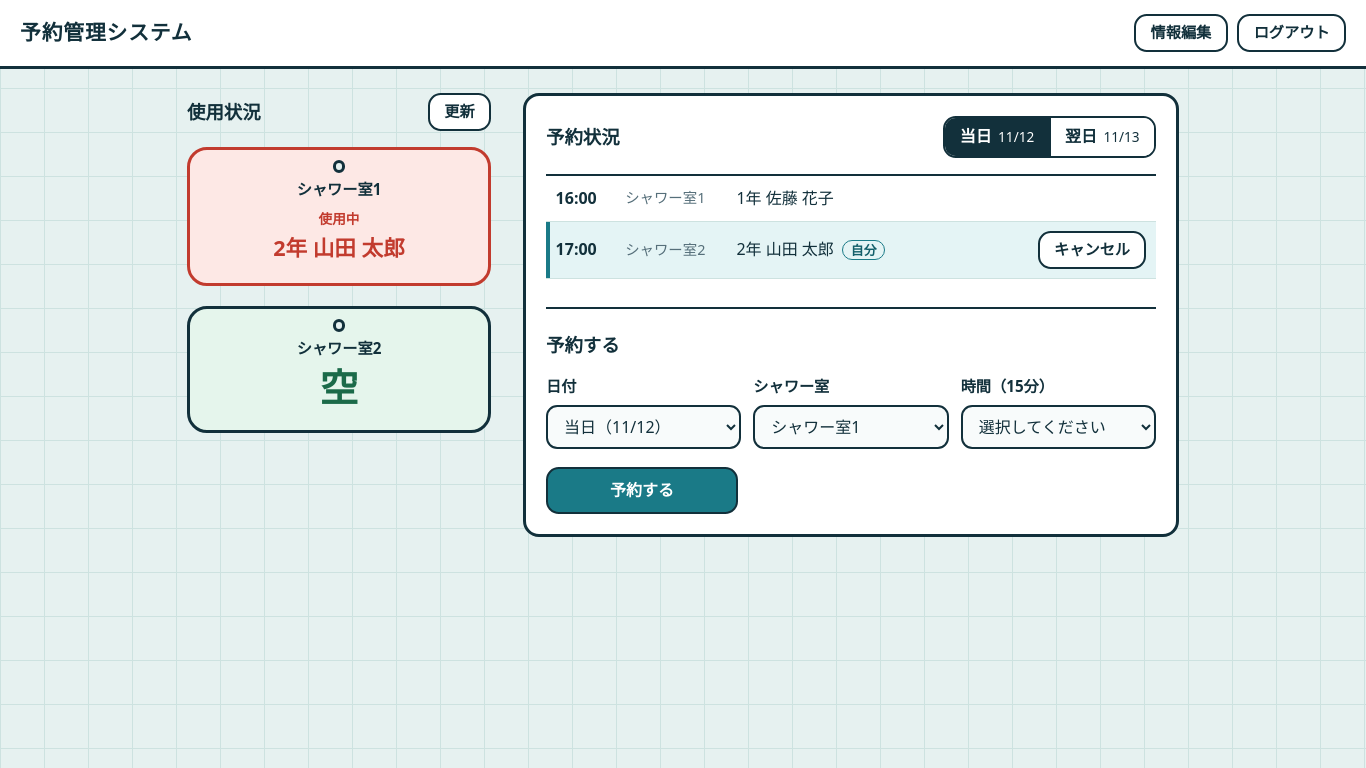
Test: トップページ：予約する欄 › 時間を選ばずに予約すると、エラーを表示して、APIは呼ばない
The image size is (1366, 768).
Expected: the heading "使用状況" is shown, [187,96,261,127]
Expected: the heading "シャワー室1" is shown, [297,179,381,199]
Click the button "予約する".
click(642, 490)  # box [546,467,738,514]
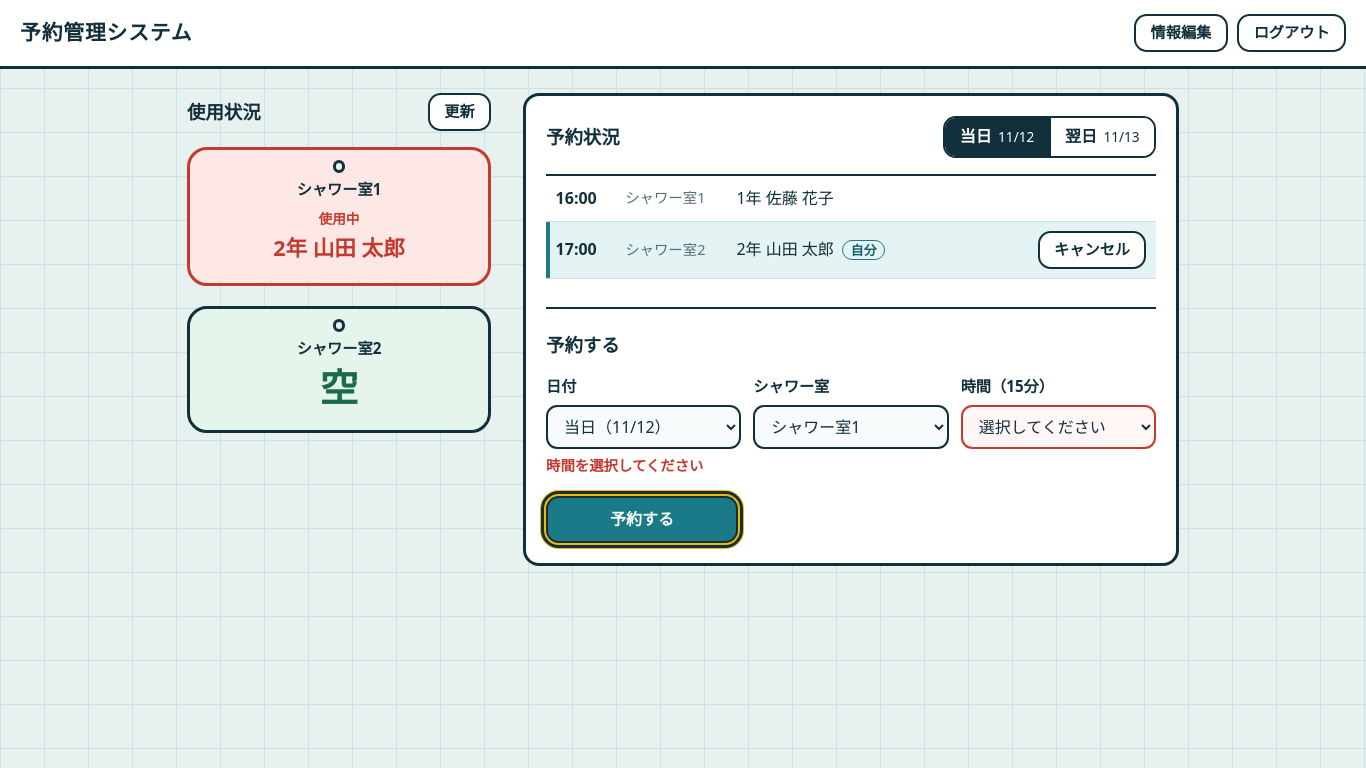
Result: the text "時間を選択してください" is shown at [546,456,703,475]
